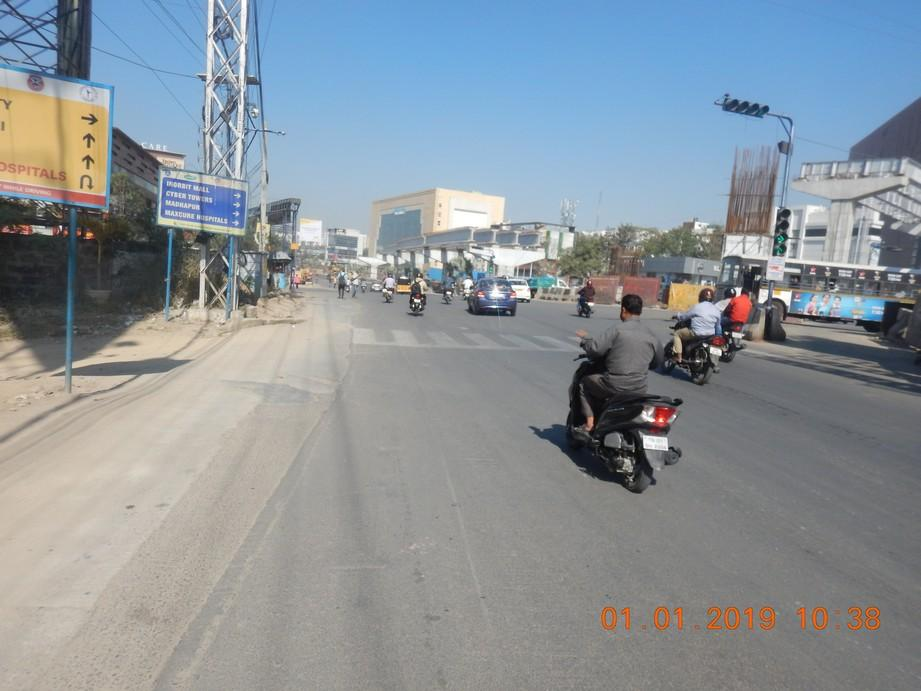plate: (642, 434, 668, 451)
